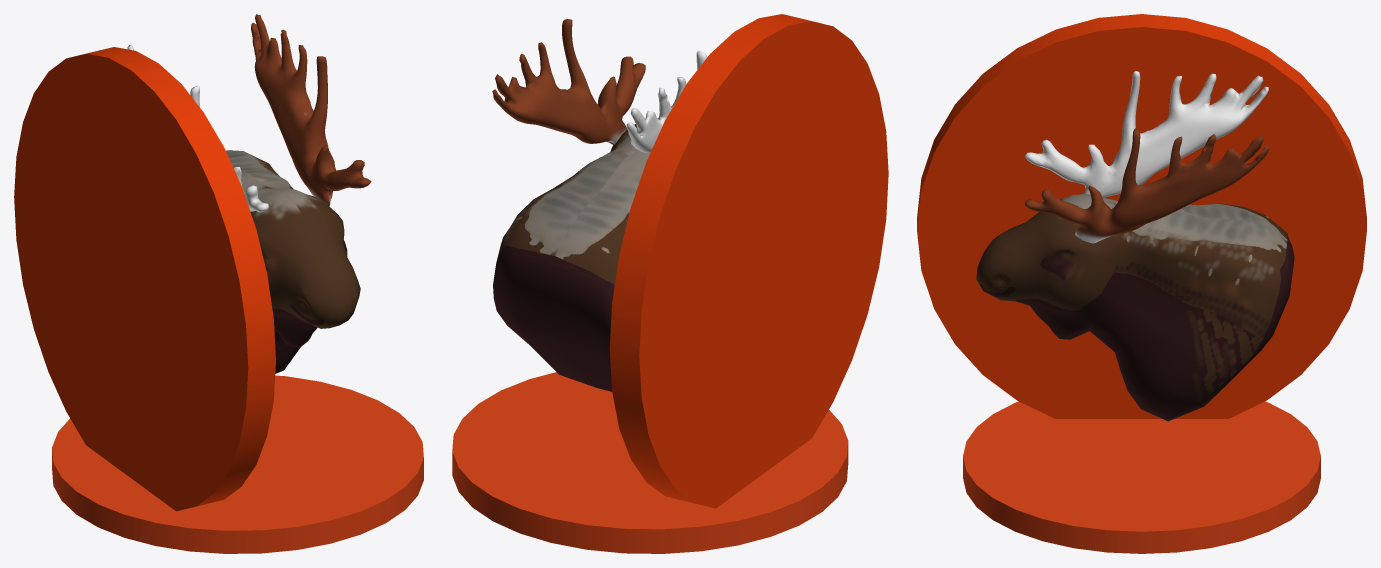
The model's file is moose_object.glb.
The picture shows the model from 3 angles, left to right: view 1: azimuth 30°, elevation 25°; view 2: azimuth 150°, elevation 25°; view 3: azimuth 270°, elevation 25°; orthographic projection. The views are drawn at different scales.
Parts seen in each view (by area): view 1: backdrop.001, ground_plane.001, moose_retop, antlers_remesh.001, antlers_remesh; view 2: backdrop.001, ground_plane.001, moose_retop, antlers_remesh.001, antlers_remesh; view 3: backdrop.001, ground_plane.001, moose_retop, antlers_remesh, antlers_remesh.001.
Boxes of the visible parts, x1=… form: backdrop.001: x1=14, y1=47, x2=275, y2=511; ground_plane.001: x1=52, y1=375, x2=423, y2=553; moose_retop: x1=226, y1=150, x2=360, y2=373; antlers_remesh.001: x1=251, y1=14, x2=371, y2=206; antlers_remesh: x1=127, y1=45, x2=268, y2=212; backdrop.001: x1=609, y1=14, x2=888, y2=508; ground_plane.001: x1=452, y1=372, x2=848, y2=553; moose_retop: x1=493, y1=124, x2=649, y2=391; antlers_remesh.001: x1=492, y1=19, x2=645, y2=144; antlers_remesh: x1=626, y1=50, x2=706, y2=153; backdrop.001: x1=917, y1=14, x2=1366, y2=418; ground_plane.001: x1=963, y1=401, x2=1320, y2=553; moose_retop: x1=976, y1=194, x2=1294, y2=421; antlers_remesh: x1=1025, y1=71, x2=1268, y2=197; antlers_remesh.001: x1=1025, y1=128, x2=1268, y2=243.
Size of the model in its own units: 6.82 by 8.7 by 8.57.
5 materials, 2 textured.
